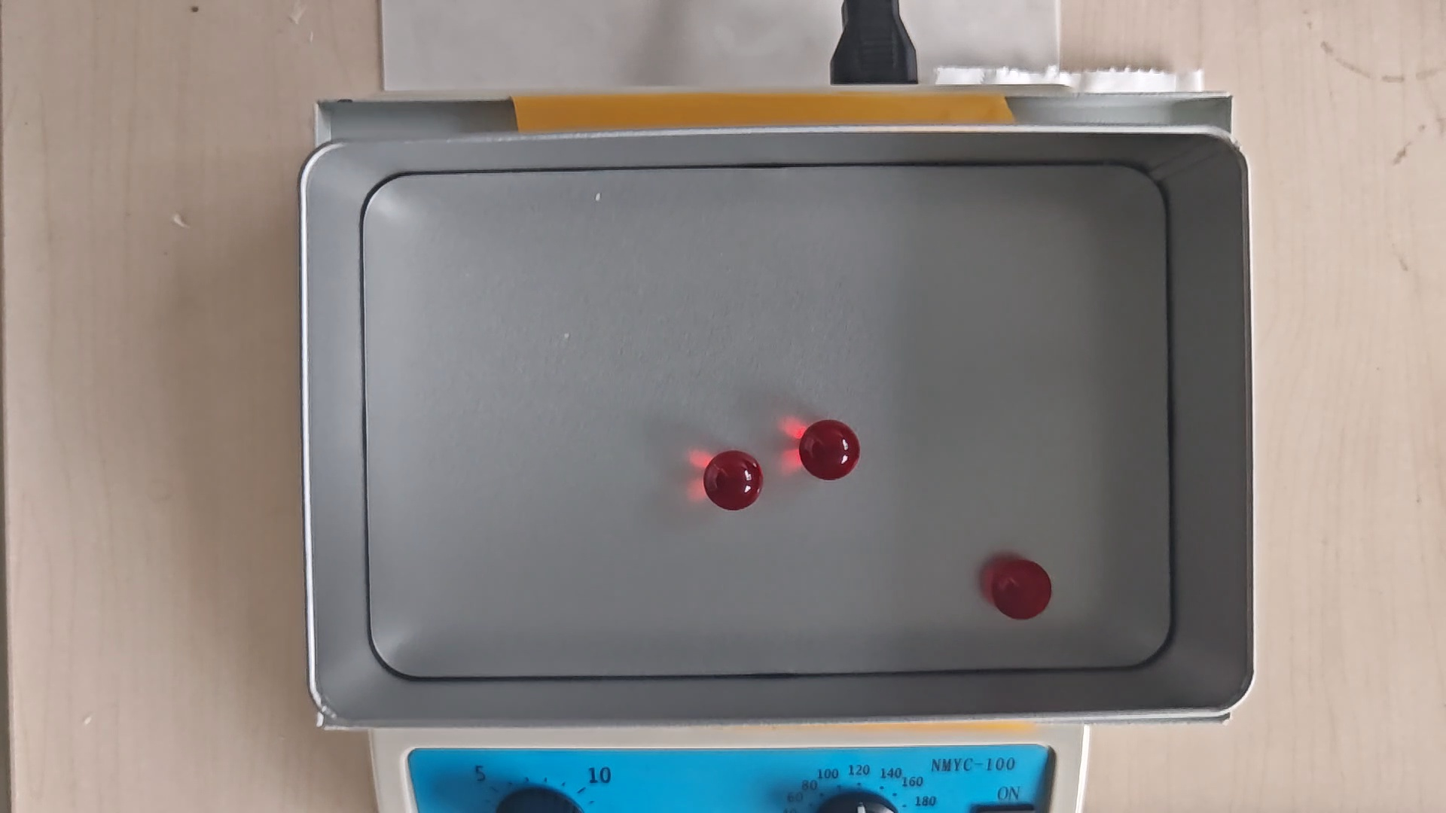ball: (988, 556, 1054, 620), (703, 449, 764, 513), (798, 418, 859, 480)
container: (365, 164, 1171, 676)
